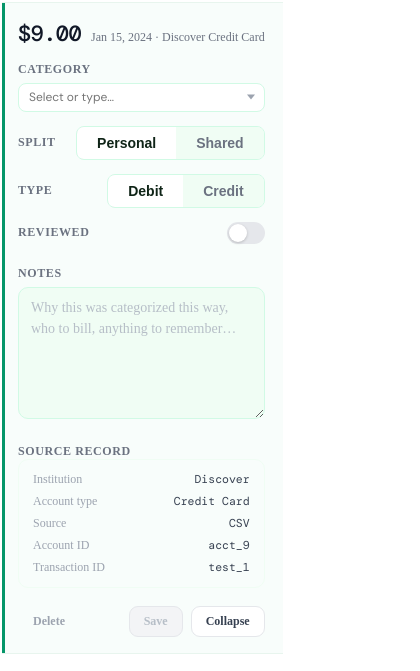
Test: the Reviewed switch toggles aria-checked and dirties the form
Click the switch named "Reviewed" at (246, 233), box [227,222,265,244]
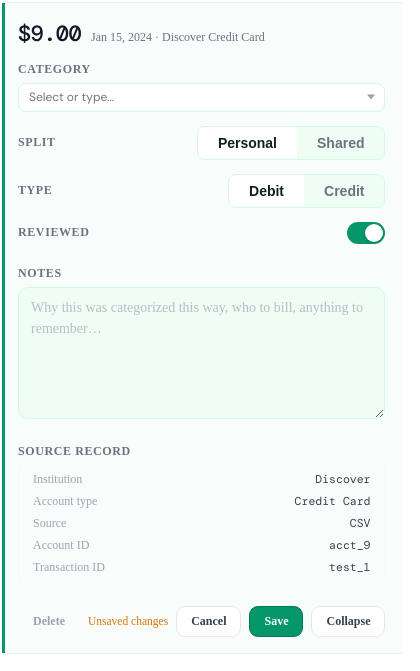
Check: the text "Unsaved changes" is shown, box [88,615,168,627]
